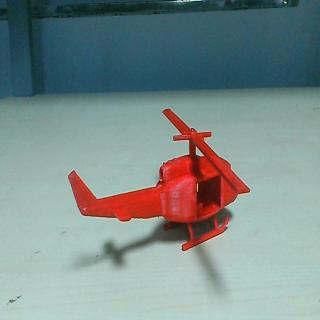Helicopter: (68, 107, 251, 254)
